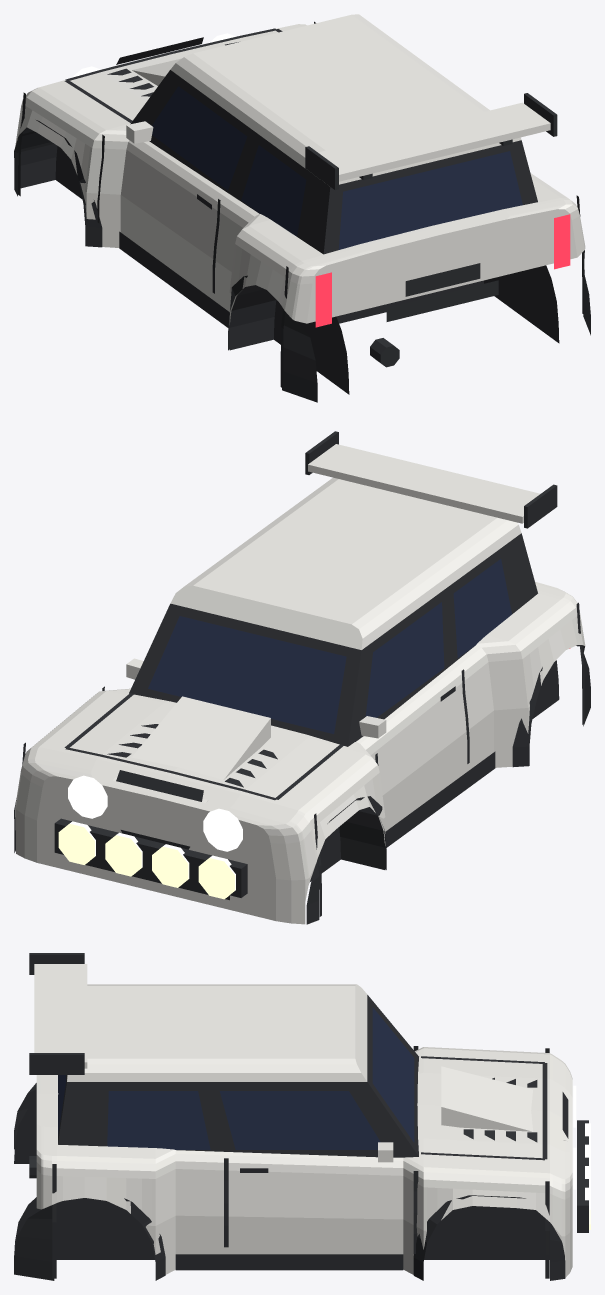
The model's file is Tora.glb.
3 renders of one model, top to bottom at view 1: azimuth 30°, elevation 25°; view 2: azimuth 150°, elevation 25°; view 3: azimuth 270°, elevation 25°, orthographic. The views are drawn at different scales.
Parts seen in each view (by area): view 1: Roof, BumperRear, Door_FL, RearWindow, Pillars, Opt_Wing_Rally_WingBlade, WheelWell, Fender_RL, Window_FL, Underbody, Hood, Fender_FL (+16 smaller); view 2: Roof, BumperFront, Windshield, Hood, Pillars, Fender_RL, Door_FL, Opt_Wing_Rally_WingBlade, Opt_Hood_Scoop_HoodScoop, Opt_Bumper_Lamps_RallyLamp, Window_FL, Fender_FL (+14 smaller); view 3: Roof, Door_FR, WheelWell, Fender_RR, Pillars, Hood, Window_FR, Window_RR, Fender_FR, Opt_Wing_Rally_WingBlade, Opt_Hood_Scoop_HoodScoop, BumperFront (+15 smaller).
Part boxes in pixels (bbox=[...]): Roof: bbox=[170, 14, 521, 186]; BumperRear: bbox=[284, 199, 585, 323]; Door_FL: bbox=[95, 130, 233, 301]; RearWindow: bbox=[338, 151, 522, 249]; Pillars: bbox=[130, 70, 537, 254]; Opt_Wing_Rally_WingBlade: bbox=[318, 102, 550, 181]; WheelWell: bbox=[55, 146, 559, 394]; Fender_RL: bbox=[216, 197, 303, 324]; Window_FL: bbox=[152, 86, 247, 190]; Underbody: bbox=[17, 127, 483, 350]; Hood: bbox=[39, 24, 301, 130]; Fender_FL: bbox=[19, 87, 114, 219]; Roof: bbox=[170, 477, 521, 649]; BumperFront: bbox=[15, 747, 317, 924]; Windshield: bbox=[148, 616, 346, 733]; Hood: bbox=[39, 690, 365, 810]; Pillars: bbox=[129, 533, 537, 746]; Fender_RL: bbox=[451, 597, 583, 770]; Door_FL: bbox=[355, 665, 468, 831]; Opt_Wing_Rally_WingBlade: bbox=[308, 444, 540, 523]; Opt_Hood_Scoop_HoodScoop: bbox=[113, 696, 270, 803]; Opt_Bumper_Lamps_RallyLamp: bbox=[58, 821, 235, 899]; Window_FL: bbox=[365, 602, 444, 717]; Fender_FL: bbox=[298, 751, 385, 856]; Roof: bbox=[67, 984, 367, 1081]; Door_FR: bbox=[224, 1152, 418, 1274]; WheelWell: bbox=[14, 1101, 564, 1259]; Fender_RR: bbox=[52, 1149, 223, 1274]; Pillars: bbox=[58, 995, 418, 1157]; Hood: bbox=[418, 1048, 549, 1173]; Window_FR: bbox=[219, 1091, 380, 1149]; Window_RR: bbox=[107, 1091, 210, 1149]; Fender_FR: bbox=[418, 1164, 549, 1249]; Opt_Wing_Rally_WingBlade: bbox=[34, 964, 87, 1068]; Opt_Hood_Scoop_HoodScoop: bbox=[441, 1066, 567, 1140]; BumperFront: bbox=[550, 1053, 572, 1277].
Bounding box in the file's own units: 6.46 × 4.54 × 11.41.
